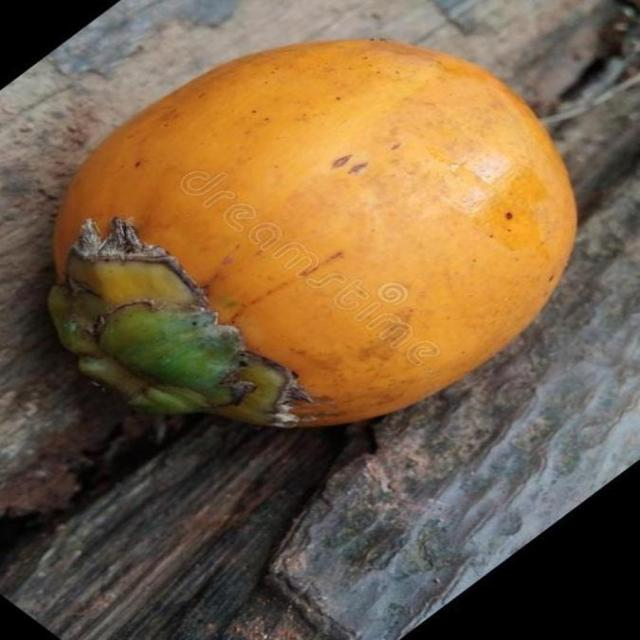good: (46, 40, 578, 432)
